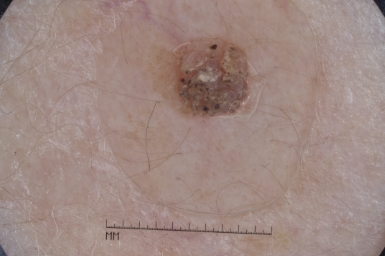seborrheic keratosis: (161, 26, 269, 130)
